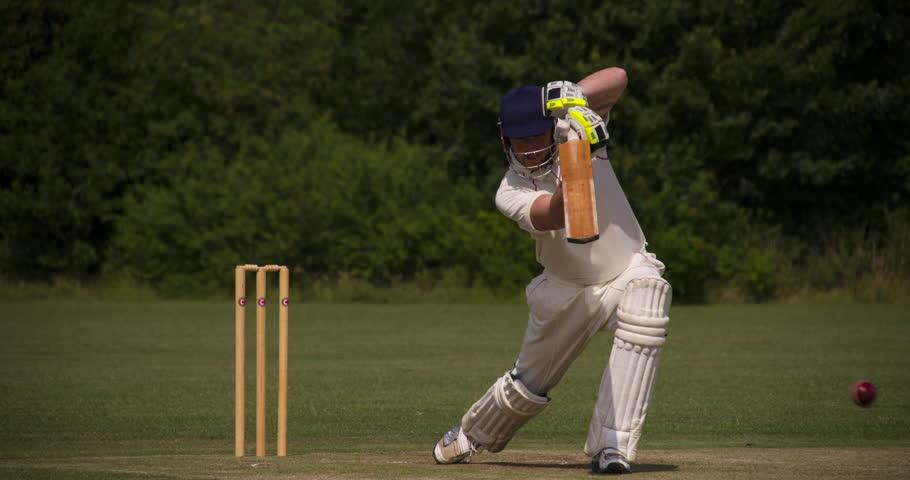batsman: (429, 66, 672, 472)
